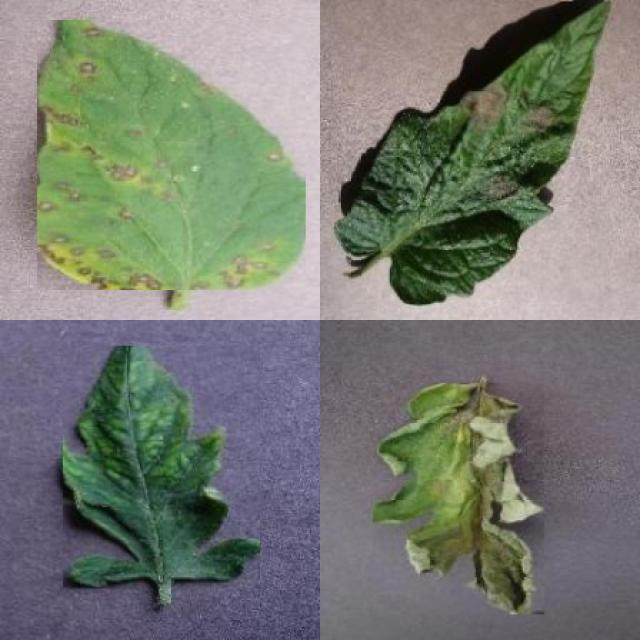Late Blight: (330, 2, 610, 305), (373, 383, 544, 614)
Mosaic Virus: (63, 346, 260, 588)
Septoria: (37, 20, 306, 290)
